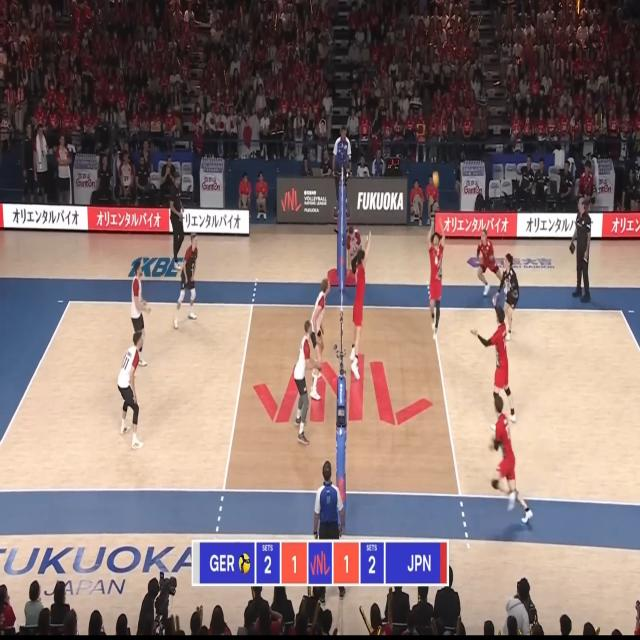ball: (433, 172, 438, 187)
